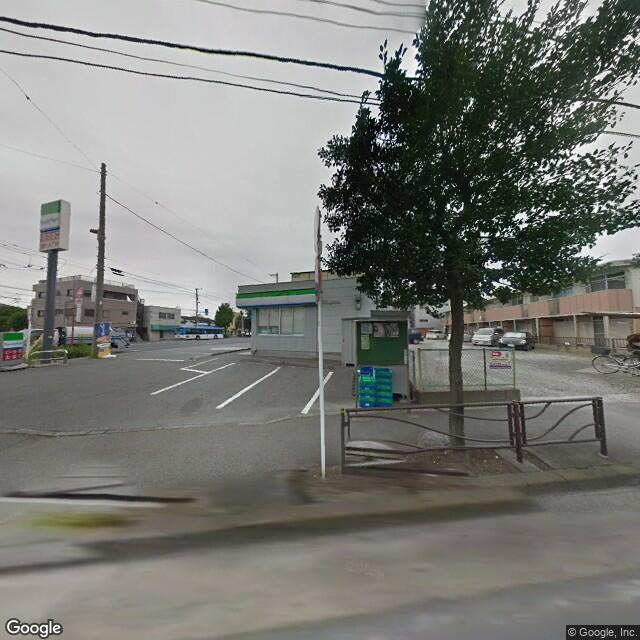family_mart: (236, 284, 319, 309), (38, 198, 64, 236)
